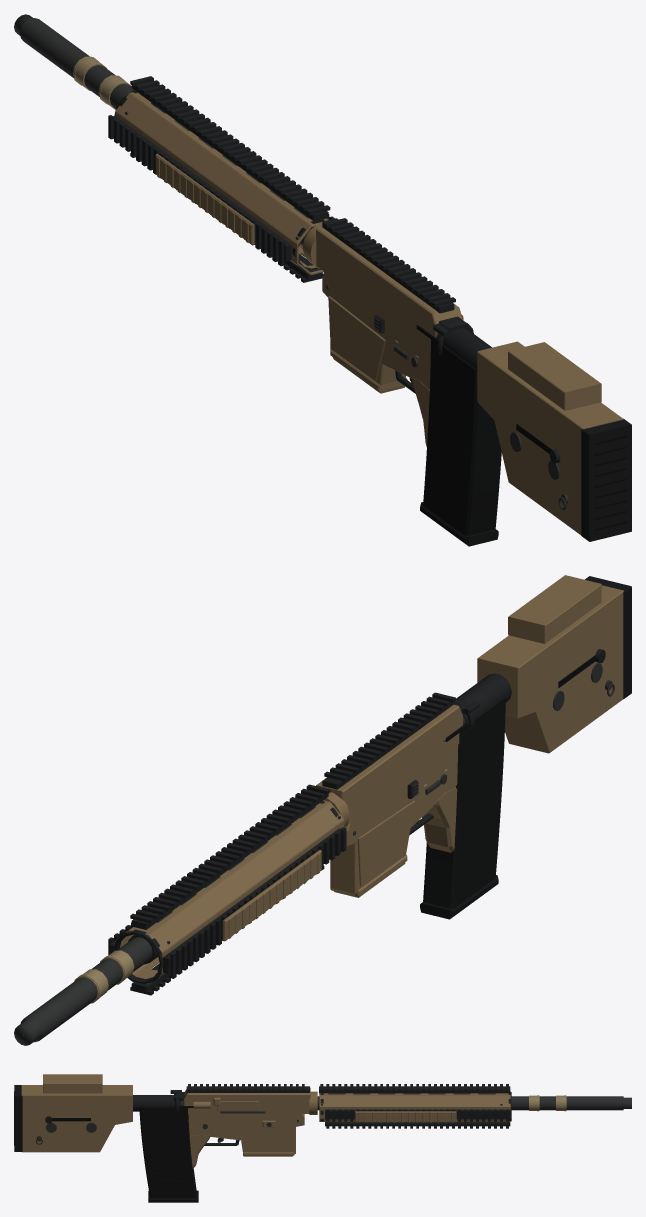
The model's file is weapon-21-dYwE1E72.glb.
The picture shows the model from 3 angles, top to bottom: view 1: azimuth 30°, elevation 25°; view 2: azimuth 150°, elevation 25°; view 3: azimuth 270°, elevation 25°; orthographic projection. The views are drawn at different scales.
Parts seen in each view (by area): view 1: salient_weapon_body, salient_weapon_magazine; view 2: salient_weapon_body, salient_weapon_magazine; view 3: salient_weapon_body, salient_weapon_magazine.
Part boxes in pixels (bbox=[...]): salient_weapon_body: bbox=[14, 14, 631, 541]; salient_weapon_magazine: bbox=[420, 339, 501, 546]; salient_weapon_body: bbox=[14, 575, 631, 1045]; salient_weapon_magazine: bbox=[420, 696, 505, 919]; salient_weapon_body: bbox=[14, 1074, 631, 1168]; salient_weapon_magazine: bbox=[139, 1106, 198, 1202].
Bounding box in the file's own units: 0.0737 × 0.2215 × 1.03.
